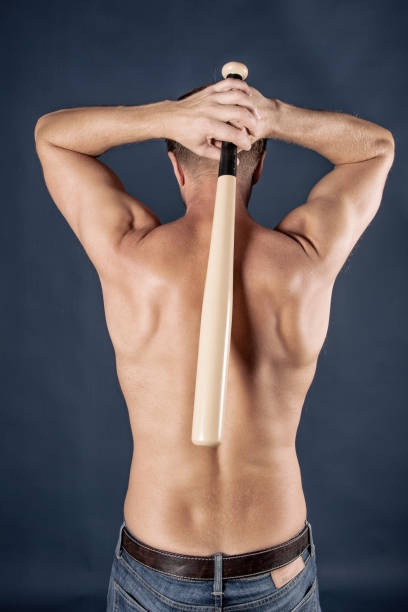bita: (186, 60, 254, 452)
